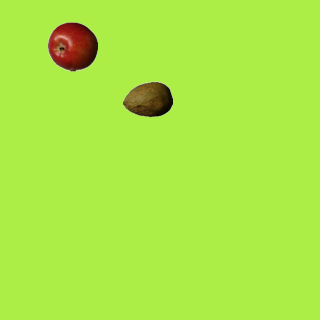Apple Braeburn: (47, 21, 97, 71)
Papaya: (122, 74, 172, 124)
